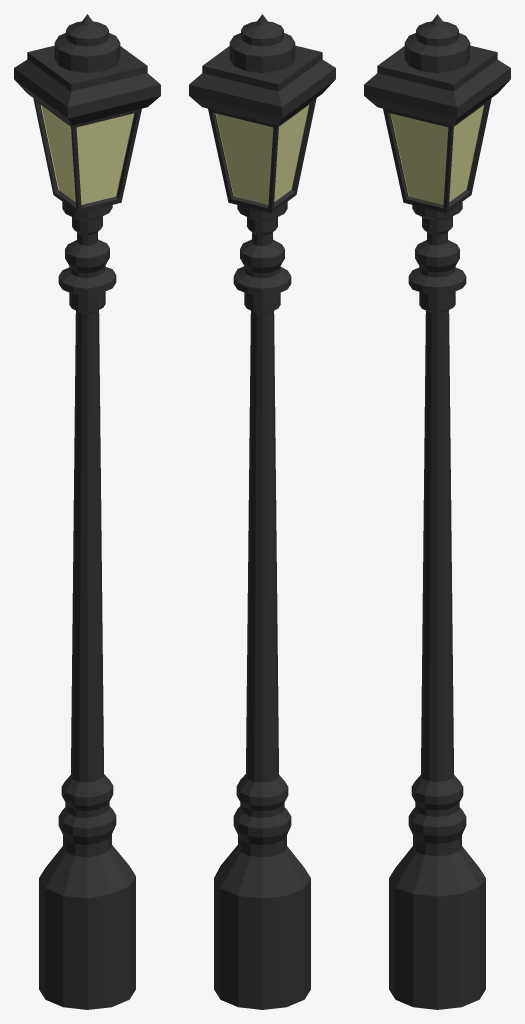
Rendered from street_lamp.fbx.
3 renders of one model, left to right at view 1: azimuth 30°, elevation 25°; view 2: azimuth 150°, elevation 25°; view 3: azimuth 330°, elevation 25°, orthographic.
Visible parts, largest first — view 1: lamp_base, lamp_glass1, lamp_top, lamp_top_round; view 2: lamp_base, lamp_glass1, lamp_top, lamp_top_round; view 3: lamp_base, lamp_glass1, lamp_top, lamp_top_round.
Boxes of the visible parts, box(x1,y1,x2,y2) form: lamp_base: box(39, 202, 135, 1009); lamp_glass1: box(33, 98, 141, 212); lamp_top: box(14, 45, 160, 125); lamp_top_round: box(54, 14, 120, 72); lamp_base: box(214, 202, 310, 1009); lamp_glass1: box(208, 98, 316, 212); lamp_top: box(189, 45, 335, 125); lamp_top_round: box(229, 14, 295, 72); lamp_base: box(389, 202, 485, 1009); lamp_glass1: box(383, 98, 491, 212); lamp_top: box(364, 45, 510, 125); lamp_top_round: box(404, 14, 470, 72).
Bounding box in the file's own units: 32.11 × 321 × 32.11.
